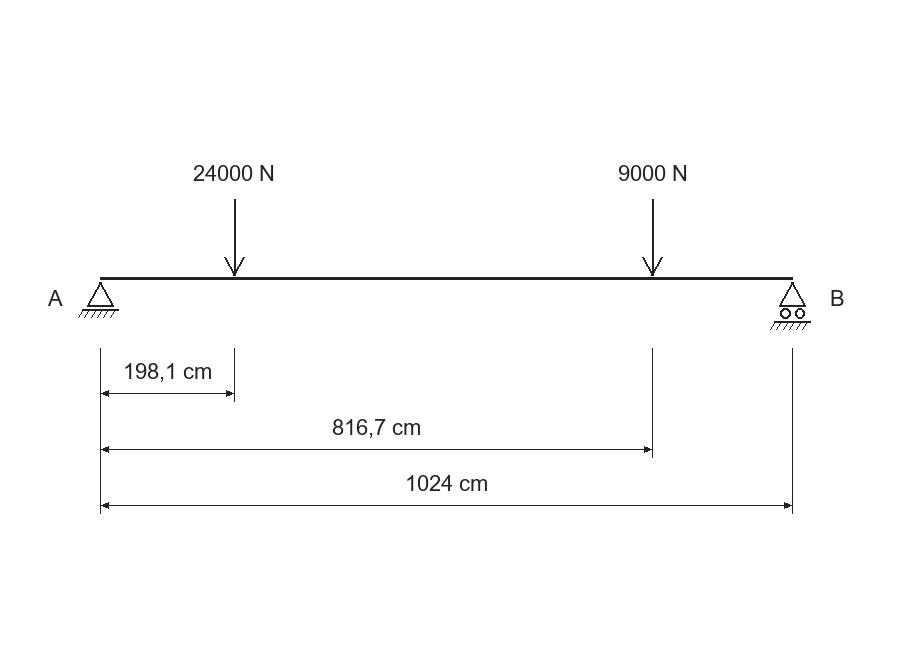pin_support: (78, 282, 119, 318)
point_load: (224, 199, 245, 276), (642, 199, 663, 276)
roller_support: (770, 282, 811, 330)
